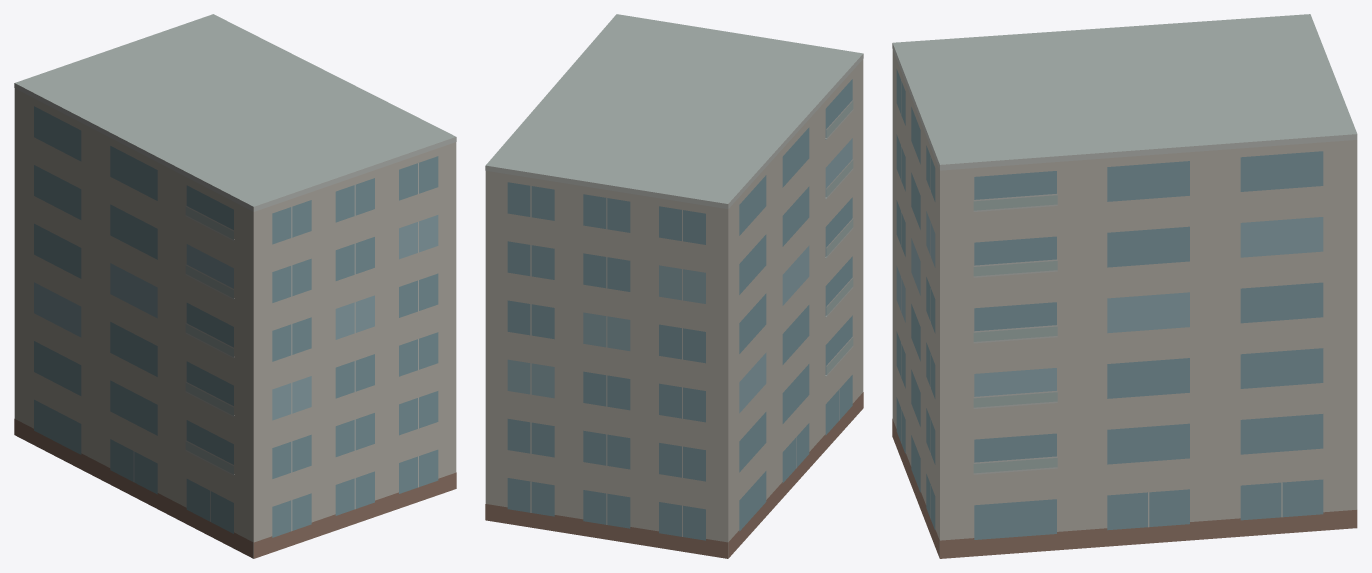
File: survey-upis-32720358.glb
3 renders of one model, left to right at view 1: azimuth 30°, elevation 25°; view 2: azimuth 150°, elevation 25°; view 3: azimuth 270°, elevation 25°, orthographic. The views are drawn at different scales.
Visible parts, largest first — view 1: survey-upis-32720358.tmp; view 2: survey-upis-32720358.tmp; view 3: survey-upis-32720358.tmp.
Part boxes in pixels (<box>): survey-upis-32720358.tmp: <box>14,14,456,558</box>; survey-upis-32720358.tmp: <box>485,14,863,558</box>; survey-upis-32720358.tmp: <box>892,14,1357,558</box>.
Size of the model in its own units: 13.73 by 16.7 by 17.87.
